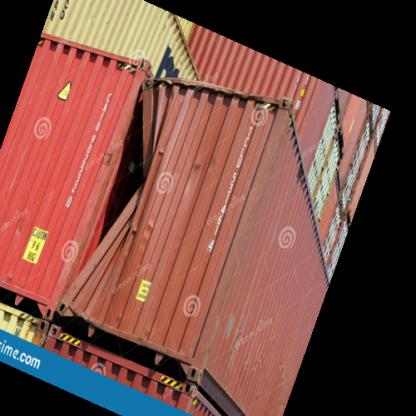Damage: (60, 76, 168, 294)
